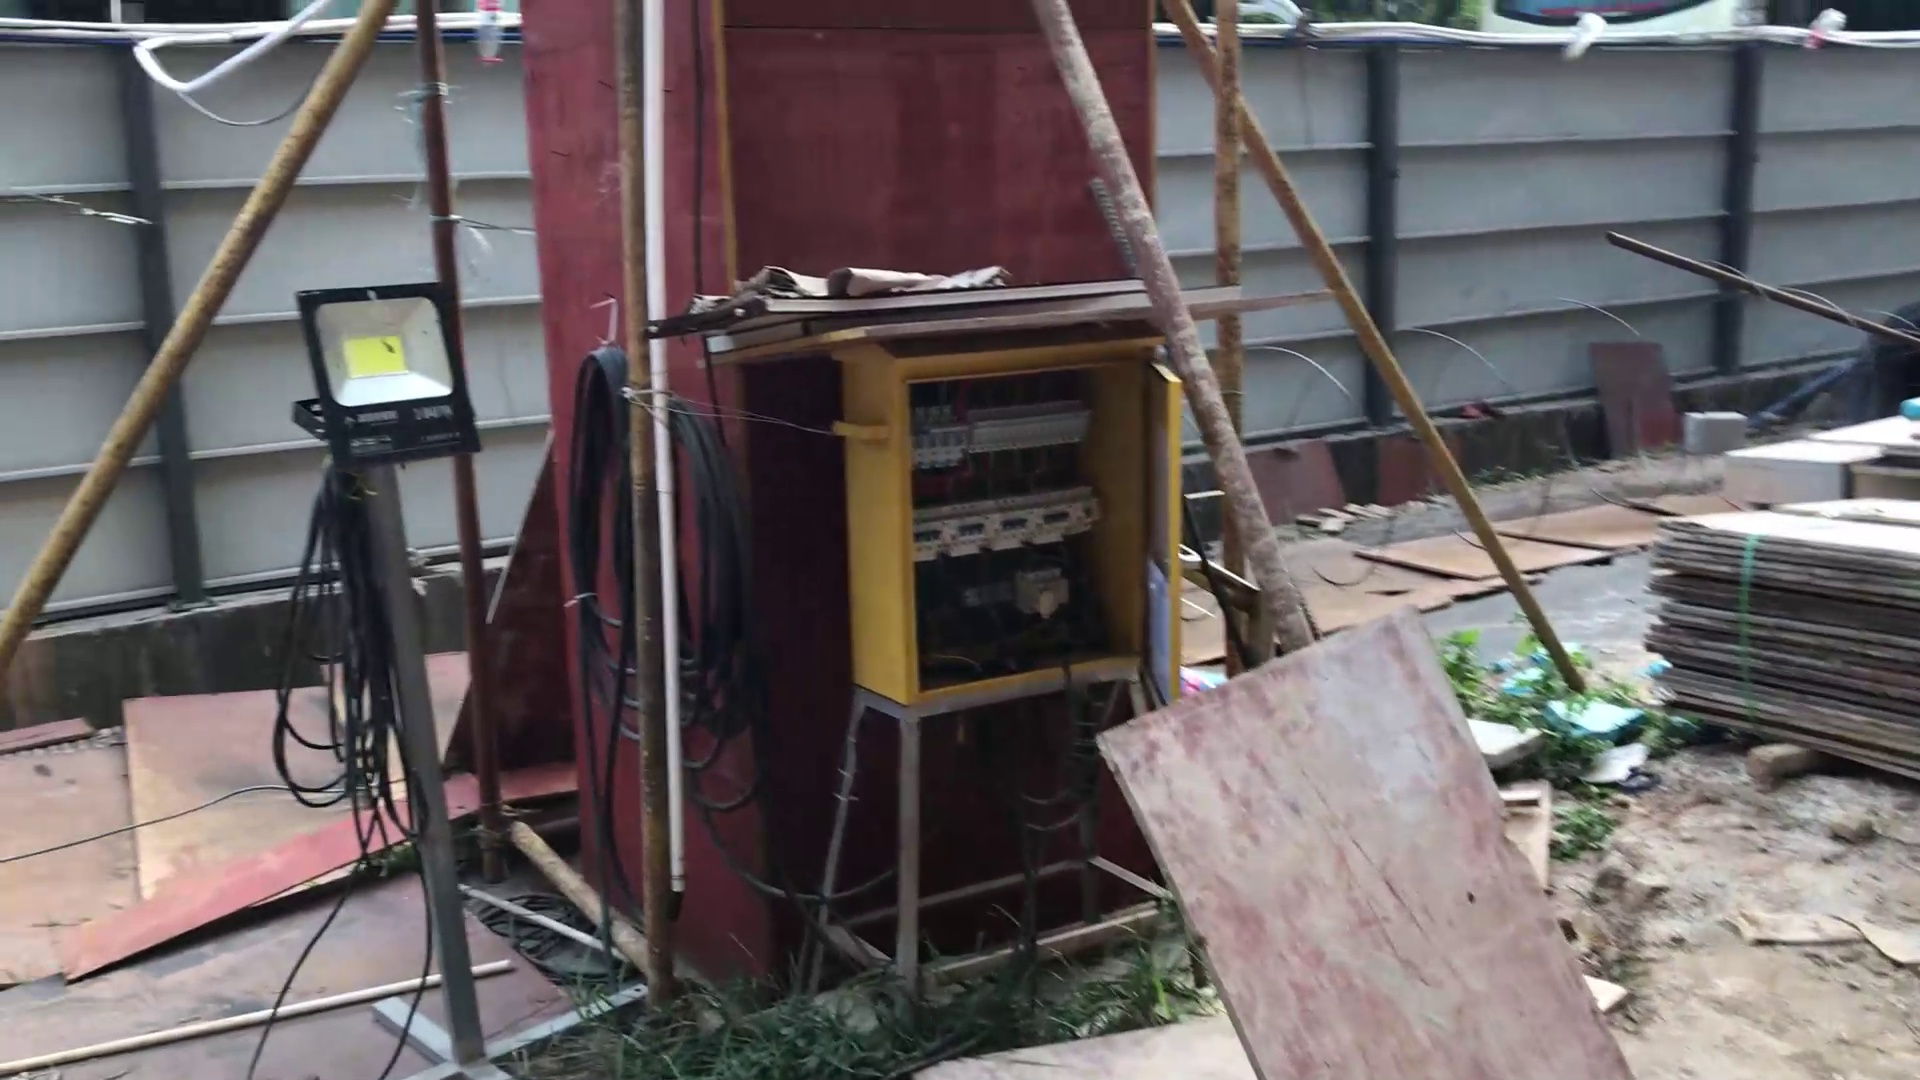board: (1615, 476, 1920, 799)
ebox: (731, 269, 1211, 1014)
